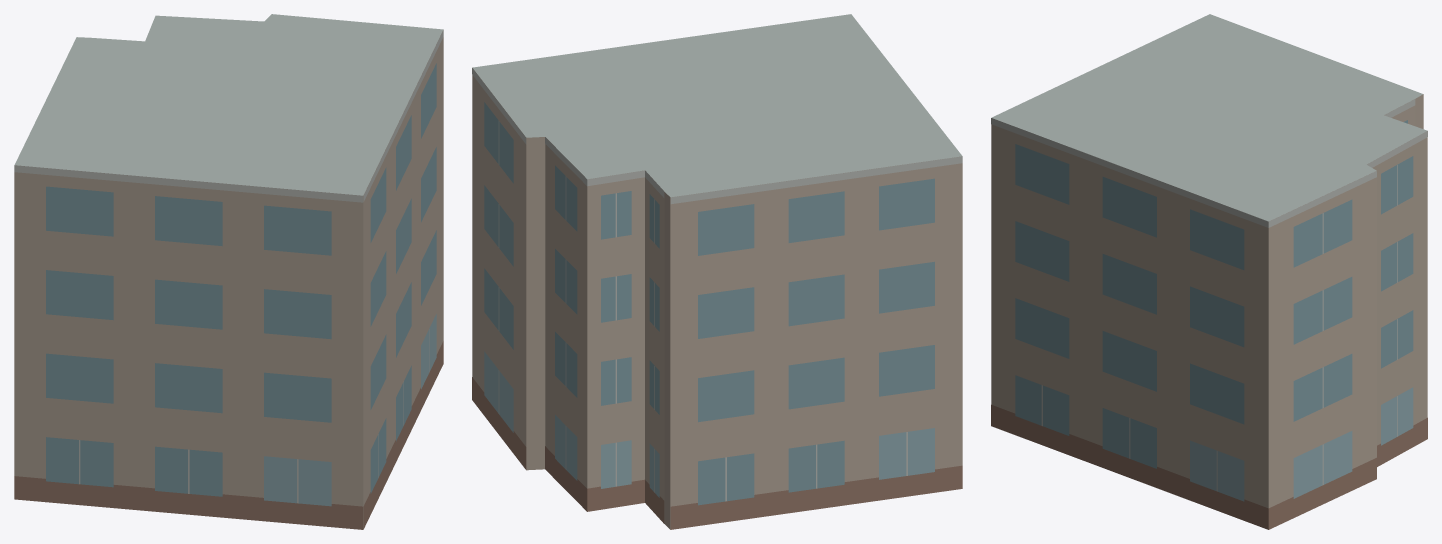
File: survey-upis-32537800.glb
The picture shows the model from 3 angles, left to right: view 1: azimuth 30°, elevation 25°; view 2: azimuth 150°, elevation 25°; view 3: azimuth 270°, elevation 25°; orthographic projection. The views are drawn at different scales.
Visible parts, largest first — view 1: survey-upis-32537800.tmp; view 2: survey-upis-32537800.tmp; view 3: survey-upis-32537800.tmp.
Part boxes in pixels (box(x1,y1,x2,y2)): survey-upis-32537800.tmp: box(14, 14, 443, 529); survey-upis-32537800.tmp: box(472, 14, 962, 529); survey-upis-32537800.tmp: box(991, 14, 1427, 529).
Bounding box in the file's own units: 16.9 × 11.7 × 15.02.
